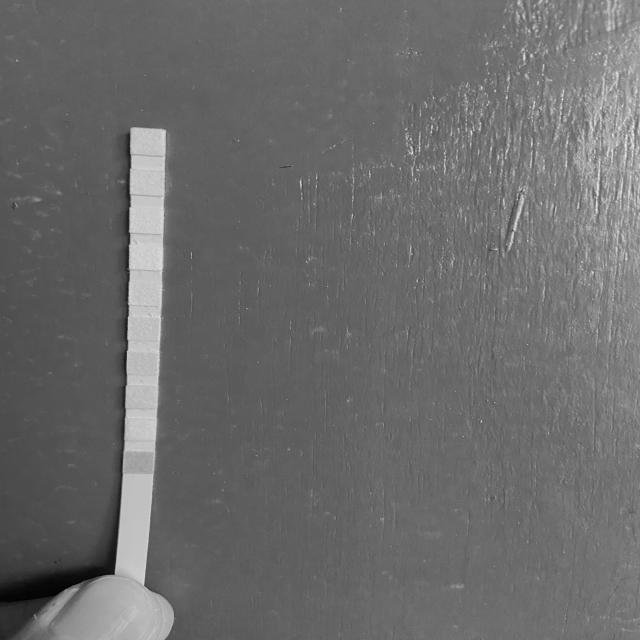Bilirubin: (124, 418, 157, 441)
Blood: (128, 317, 160, 340)
Glucose: (123, 452, 155, 474)
Ketone: (126, 386, 158, 408)
Leukocytes: (131, 129, 163, 155)
Nitrite: (130, 170, 163, 195)
Protein: (130, 245, 162, 270)
SpGravity: (126, 352, 159, 375)
Urobilinogen: (130, 209, 163, 233)
background: (0, 0, 640, 640)
pH: (129, 282, 161, 306)
strip: (116, 129, 166, 576)
